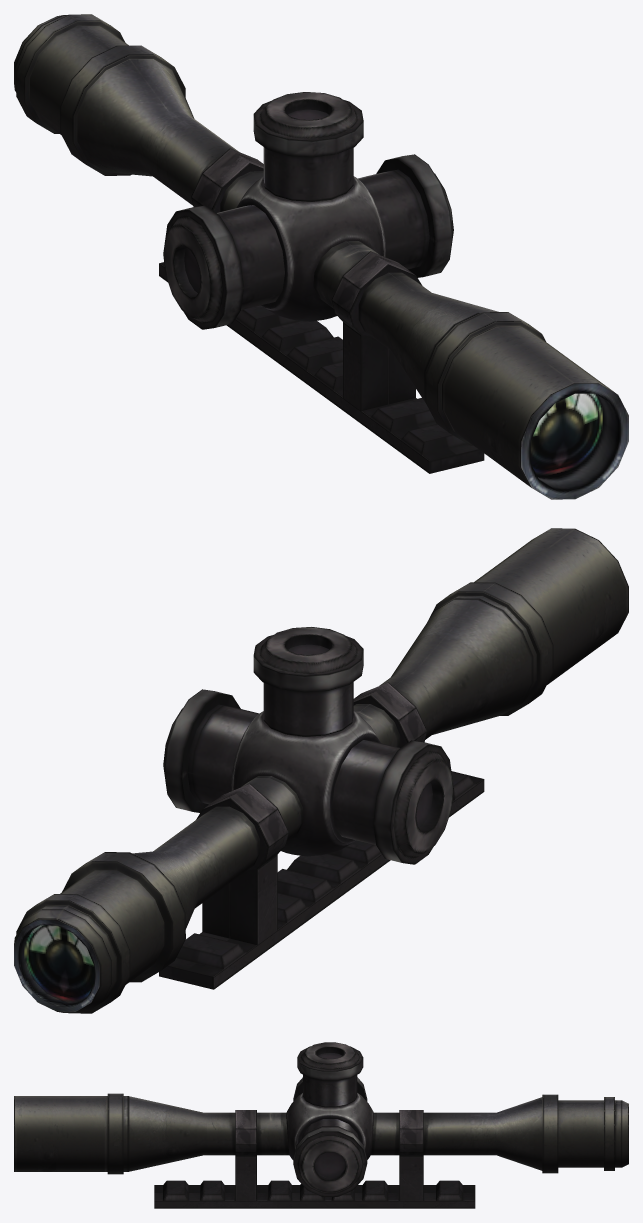
File: SniperRifle_Warfare_Scope_0.FBX
3 views of the same model, one above another, from view 1: azimuth 30°, elevation 25°; view 2: azimuth 150°, elevation 25°; view 3: azimuth 270°, elevation 25° (orthographic). The views are drawn at different scales.
Visible parts, largest first — view 1: mesh_scope; view 2: mesh_scope; view 3: mesh_scope.
Boxes of the visible parts, x1,y1,x2,y2 form: mesh_scope: (14, 14, 628, 499); mesh_scope: (14, 528, 628, 1013); mesh_scope: (14, 1042, 628, 1208).
Size of the model in its own units: 0.1188 by 0.1164 by 0.4394.
